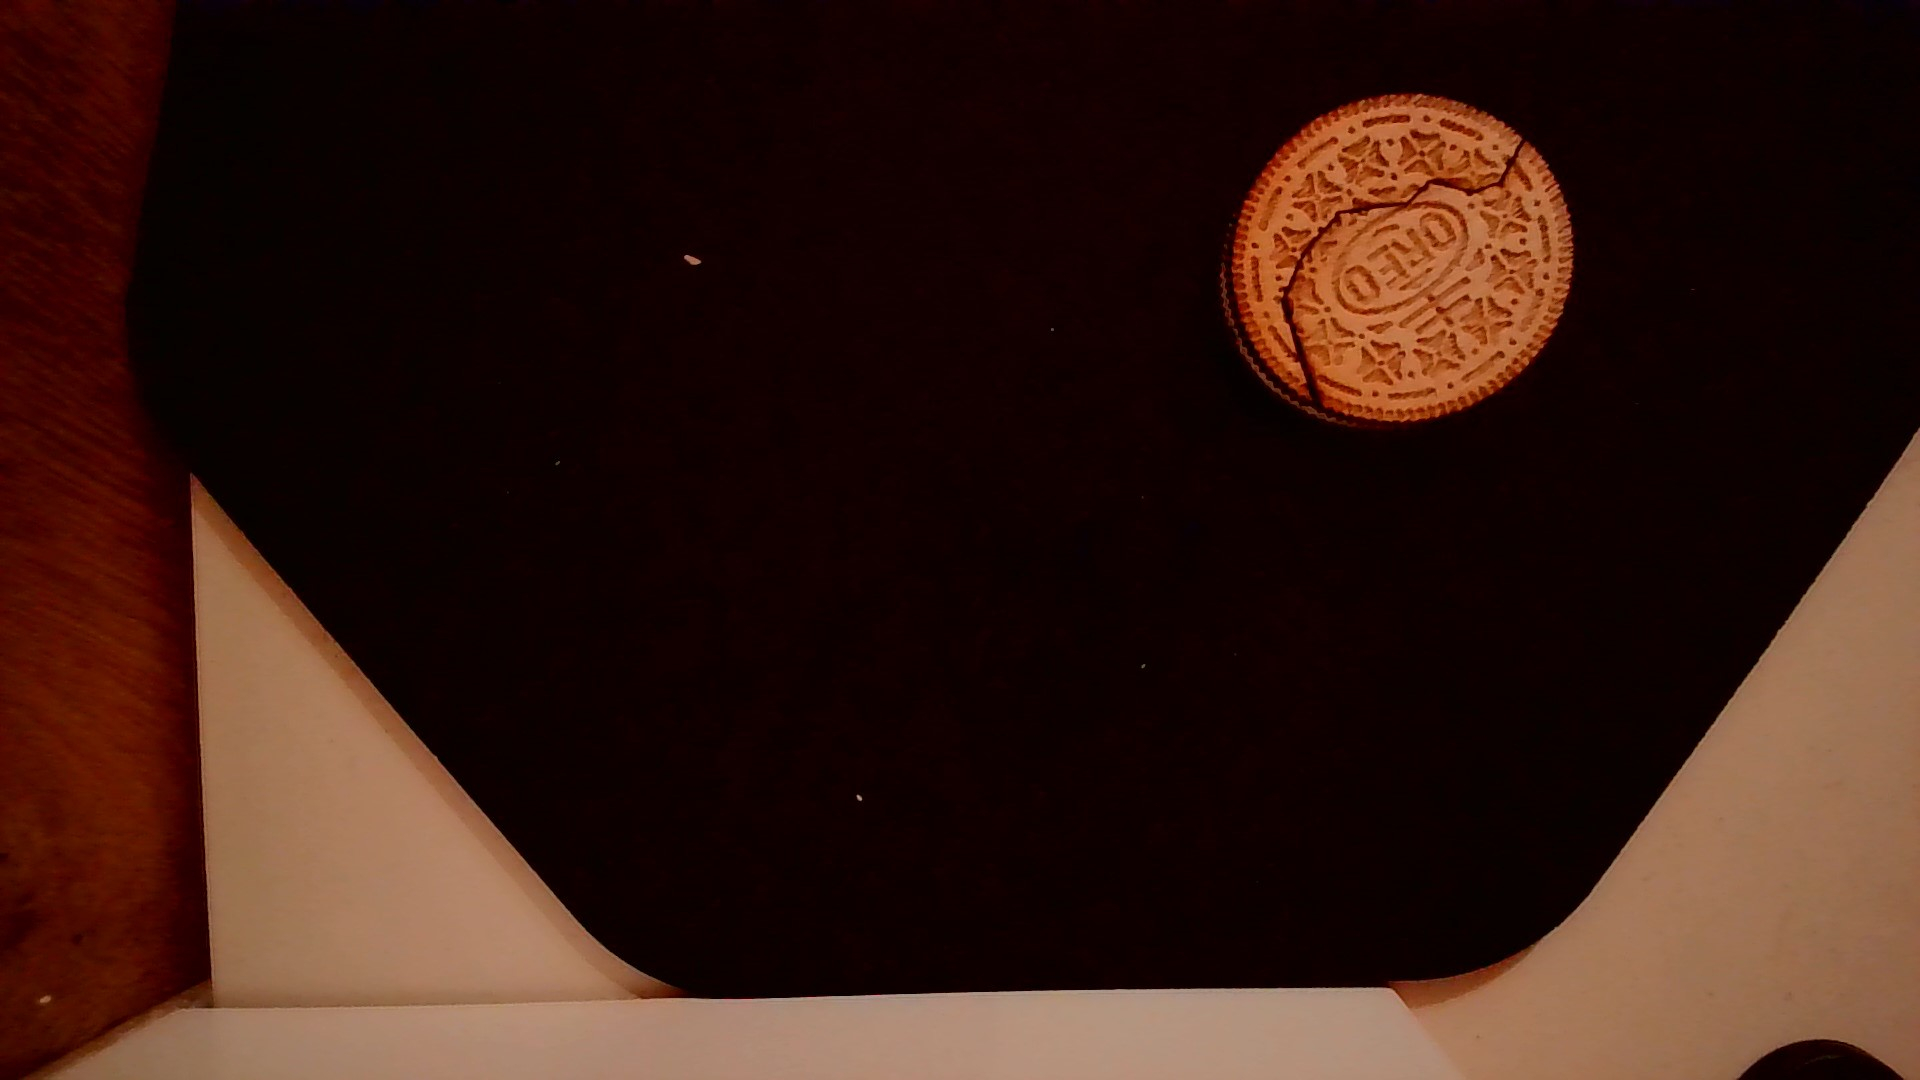Fissure: (1275, 131, 1542, 425)
Oréo: (1212, 80, 1582, 436)
